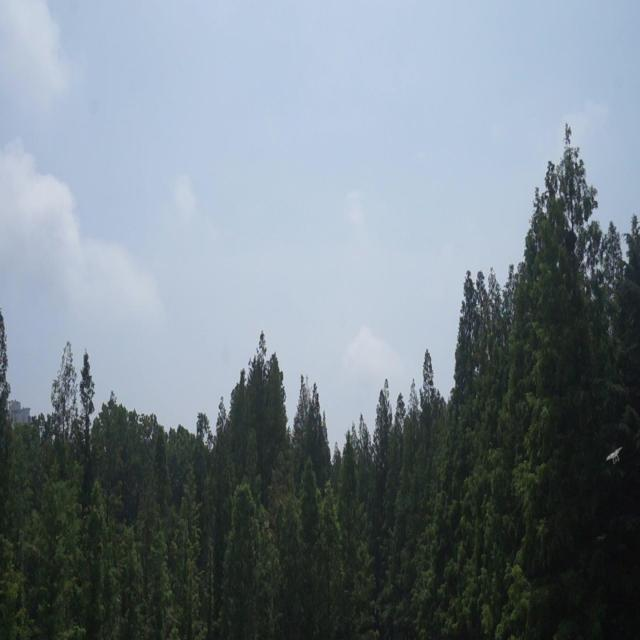drone: (602, 443, 625, 466)
